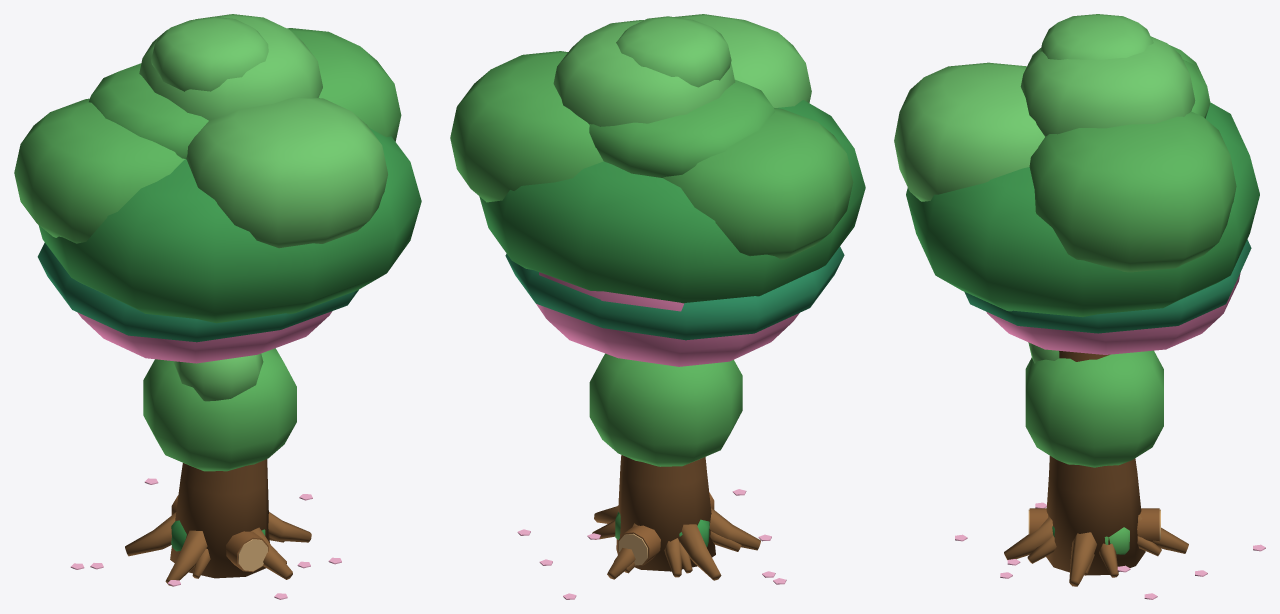
File: bosque-props.glb
The picture shows the model from 3 angles, left to right: view 1: azimuth 30°, elevation 25°; view 2: azimuth 150°, elevation 25°; view 3: azimuth 270°, elevation 25°; orthographic projection.
Parts seen in each view (by area): view 1: arvore-grande-a, arvore-grande-b, arvore-media, arvore-grande-c, tora; view 2: arvore-grande-a, arvore-grande-b, arvore-media, arvore-grande-c, tora; view 3: arvore-grande-a, arvore-media, arvore-grande-b, arvore-grande-c, tora.
Part boxes in pixels (box(x1,y1,x2,y2)): arvore-grande-a: box(14, 14, 421, 586); arvore-grande-b: box(37, 17, 358, 563); arvore-media: box(143, 348, 296, 471); arvore-grande-c: box(70, 311, 341, 599); tora: box(171, 495, 268, 572); arvore-grande-a: box(450, 14, 865, 580); arvore-grande-b: box(505, 16, 844, 577); arvore-media: box(589, 353, 742, 466); arvore-grande-c: box(517, 272, 799, 599); tora: box(618, 492, 714, 566); arvore-grande-a: box(894, 36, 1259, 586); arvore-media: box(1025, 342, 1163, 467); arvore-grande-b: box(964, 14, 1251, 577); arvore-grande-c: box(955, 273, 1265, 599); tora: box(1028, 508, 1160, 541).
Bounding box in the file's own units: 7 × 9.84 × 6.3.
